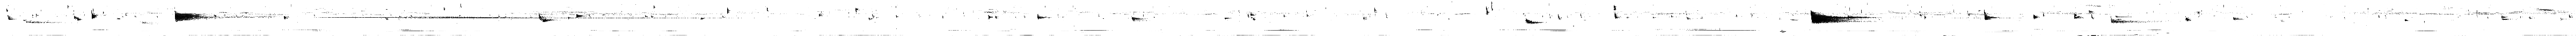meteor: (1810, 10, 1860, 23), (174, 10, 212, 21), (2111, 16, 2146, 25), (539, 13, 555, 23), (1983, 10, 1999, 20), (1525, 18, 1543, 25), (23, 20, 56, 23), (1037, 13, 1050, 20), (1132, 16, 1143, 21), (2073, 13, 2085, 18), (74, 15, 82, 21), (2233, 16, 2244, 20), (8, 15, 15, 20), (92, 13, 97, 20), (1485, 7, 1488, 15), (2034, 15, 2039, 20), (577, 15, 583, 18), (1615, 11, 1618, 18), (1686, 16, 1692, 20), (2187, 18, 2190, 21)
